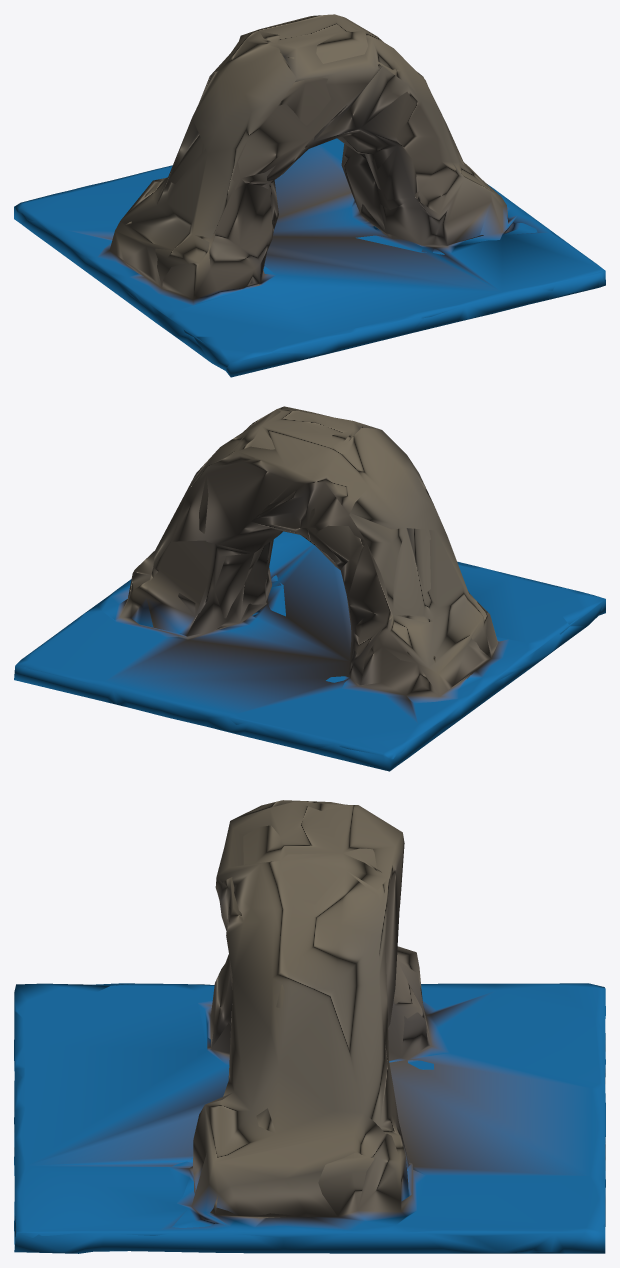
Rendered from gen3d-sea-arch-lod0.glb.
The picture shows the model from 3 angles, top to bottom: view 1: azimuth 30°, elevation 25°; view 2: azimuth 150°, elevation 25°; view 3: azimuth 270°, elevation 25°; orthographic projection. The views are drawn at different scales.
Parts seen in each view (by area): view 1: part_0; view 2: part_0; view 3: part_0.
Boxes of the visible parts, bbox=[...] form: part_0: bbox=[14, 14, 605, 377]; part_0: bbox=[14, 406, 605, 771]; part_0: bbox=[14, 800, 605, 1253].
Size of the model in its own units: 1.75 by 0.9999 by 1.75.
